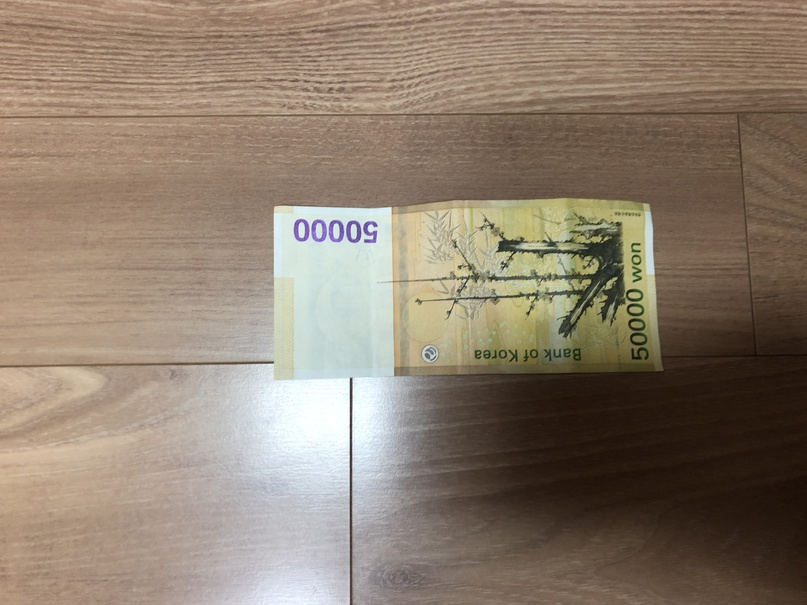50000won: (273, 198, 664, 380)
